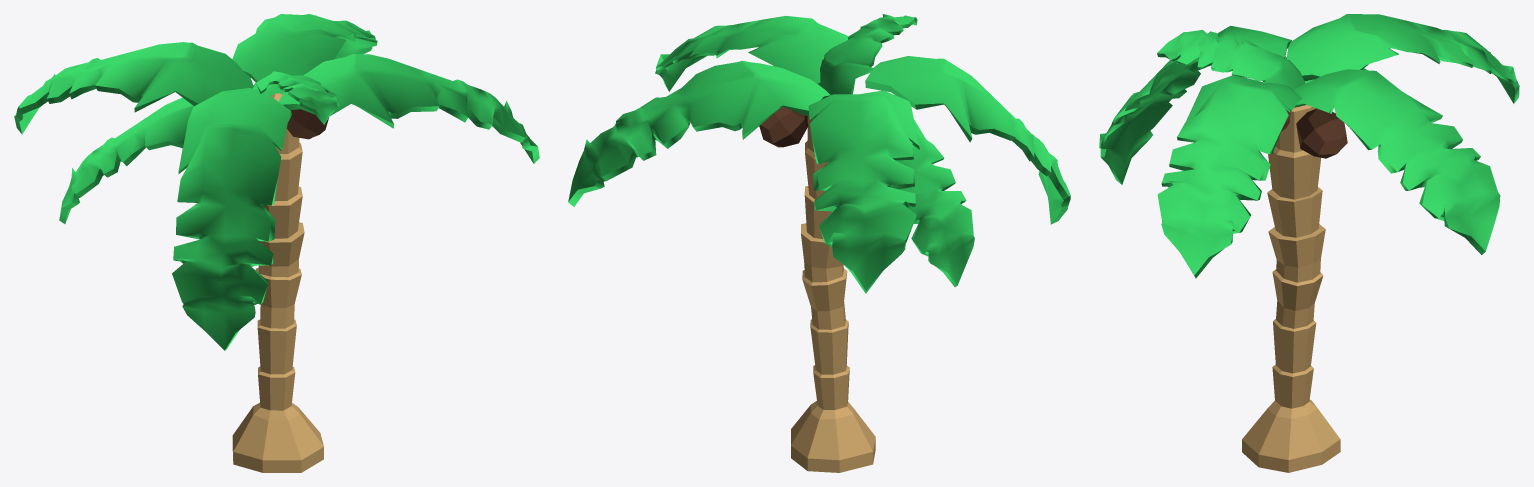
The model's file is palmera.fbx.
3 views of the same model, side by side, from view 1: azimuth 30°, elevation 25°; view 2: azimuth 150°, elevation 25°; view 3: azimuth 270°, elevation 25° (orthographic).
Parts seen in each view (by area): view 1: Tronco; view 2: Tronco; view 3: Tronco.
Boxes of the visible parts, x1,y1,x2,y2 form: Tronco: [14, 14, 539, 472]; Tronco: [568, 14, 1070, 472]; Tronco: [1099, 14, 1519, 472].
Bounding box in the file's own units: 254 × 253 × 236.
3 materials, 3 textured.
